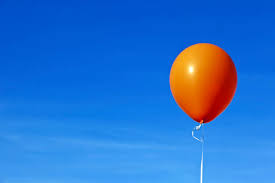Balloon: (169, 43, 238, 123)
